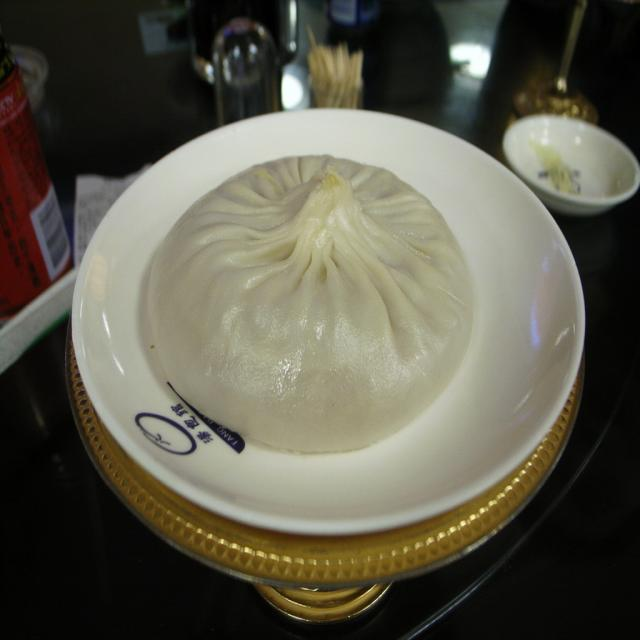non-organic waste: (65, 105, 592, 582)
